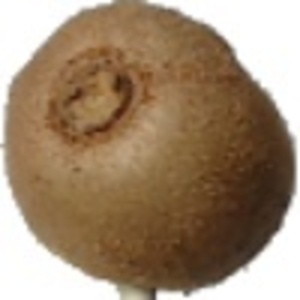kiwi: (1, 1, 298, 300)
